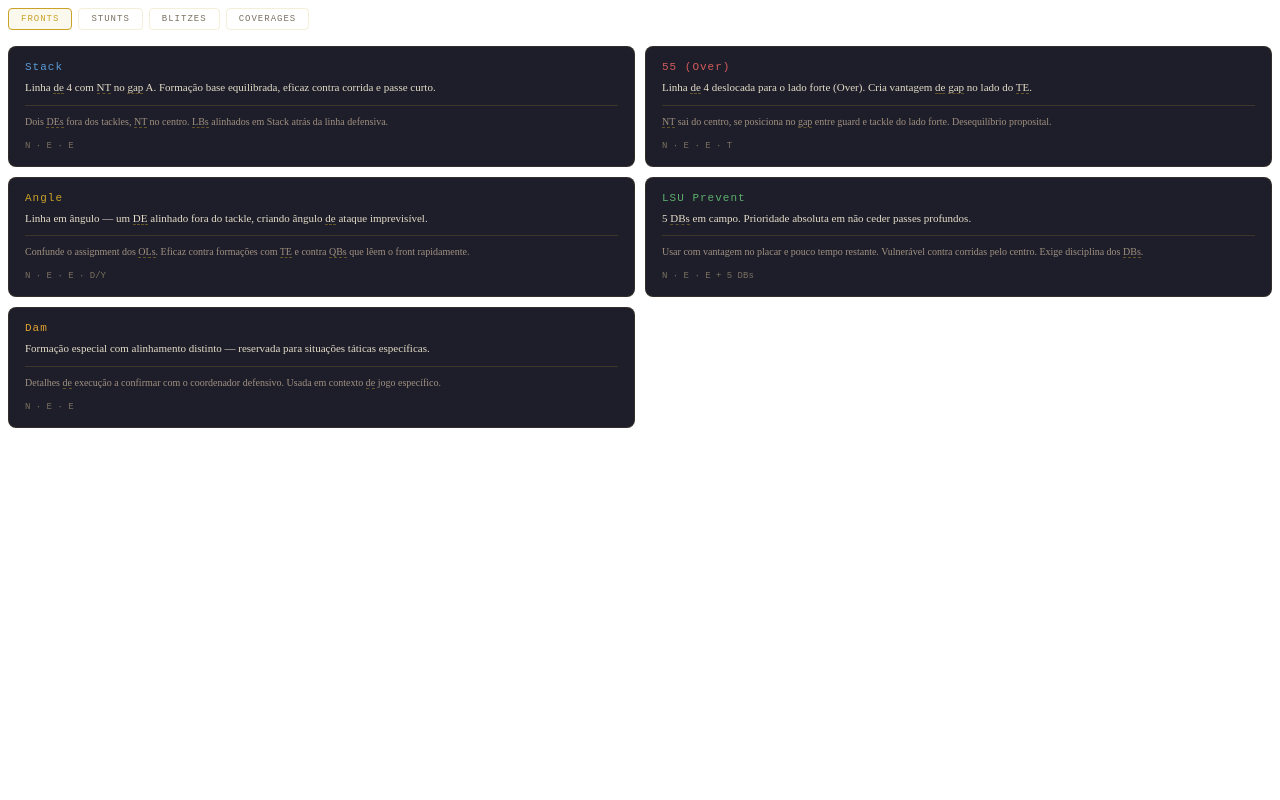
Test: DictionaryTab › muda para BLITZES ao clicar
The image size is (1280, 800).
Click the button "BLITZES": (184, 19) [149,8,220,30]
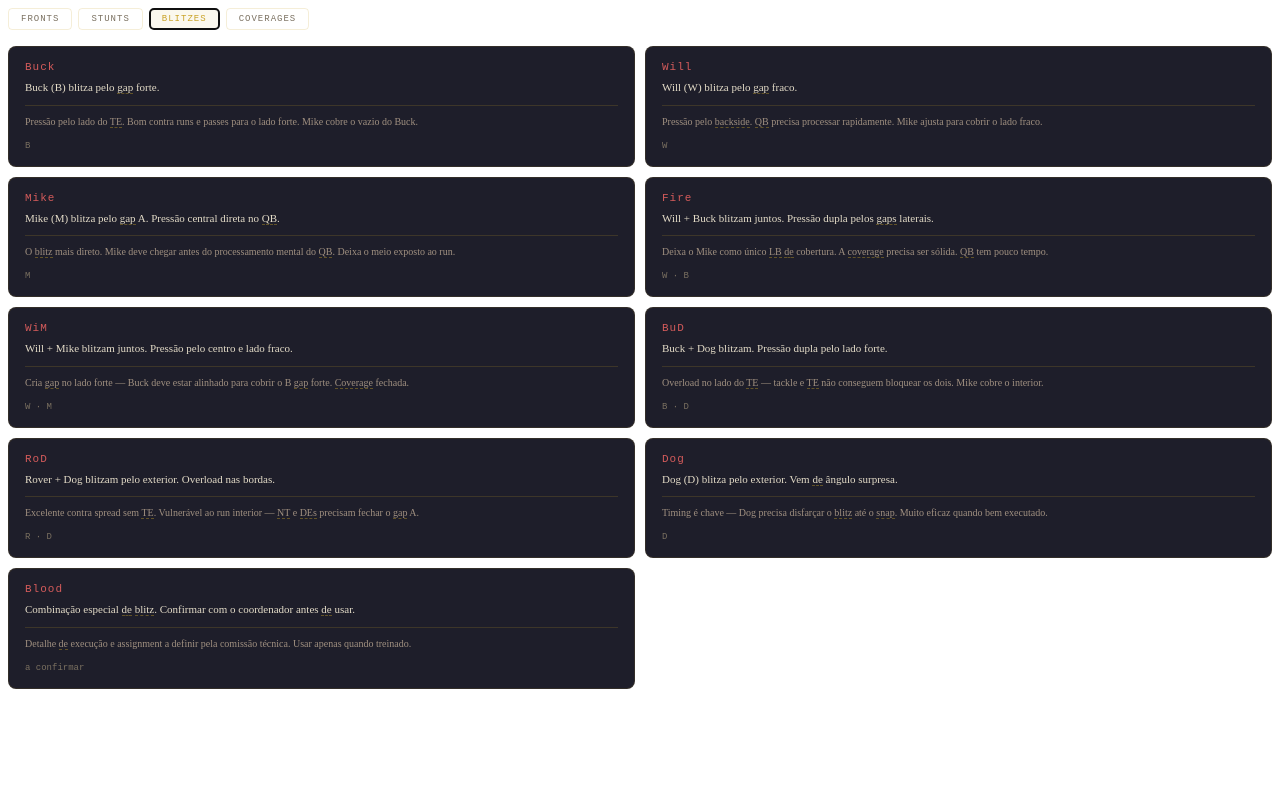
Expected: the text "Buck" is shown, [25,61,55,73]
